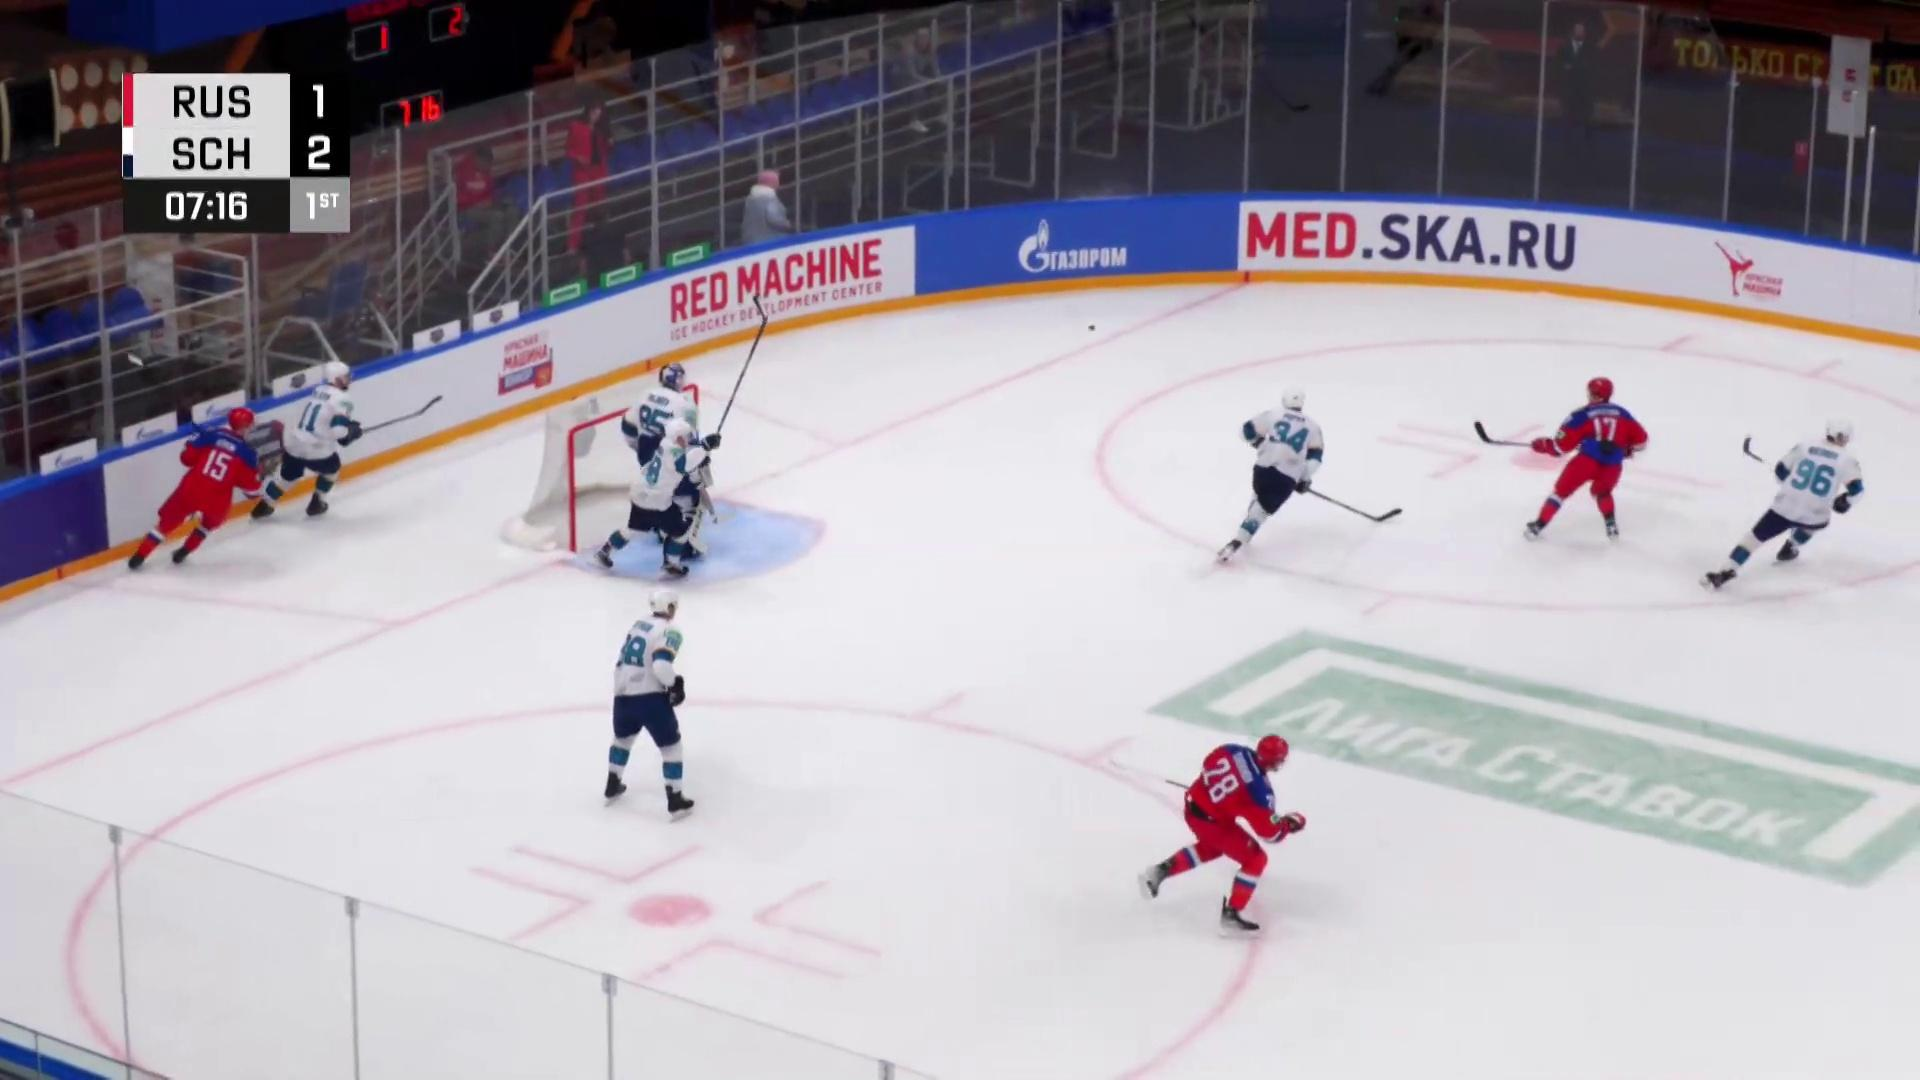ball: (1088, 324, 1096, 331)
